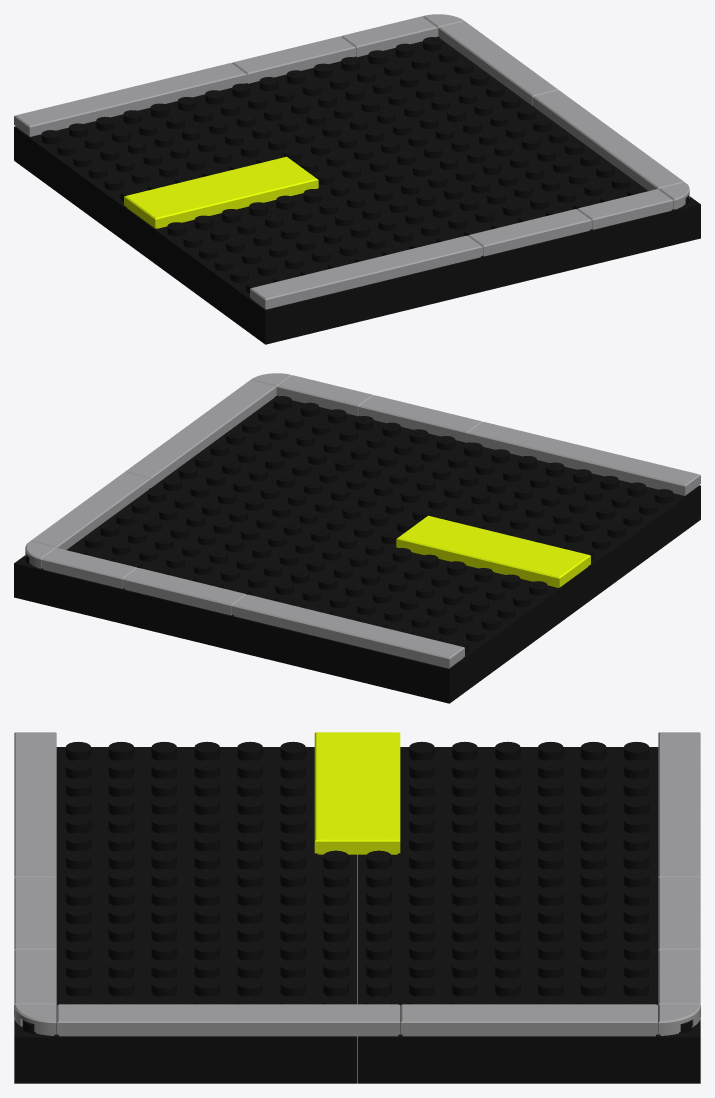
Rendered from End-Road.fbx.
3 renders of one model, top to bottom at view 1: azimuth 30°, elevation 25°; view 2: azimuth 150°, elevation 25°; view 3: azimuth 270°, elevation 25°, orthographic. The views are drawn at different scales.
Parts seen in each view (by area): view 1: part.002, part.003, part.004, part.001, part, part.011, part.012, part.007, part.010, part.008, part.009; view 2: part.003, part.002, part.004, part, part.001, part.011, part.012, part.010, part.007, part.009, part.008; view 3: part.003, part.002, part.011, part.004, part.012, part, part.001, part.007, part.010, part.008, part.009, part.005 (+1 smaller).
Boxes of the visible parts, bbox=[...] form: part.002: bbox=[139, 117, 700, 344]; part.003: bbox=[14, 36, 549, 252]; part.004: bbox=[124, 156, 318, 228]; part.001: bbox=[250, 235, 482, 309]; part: bbox=[14, 63, 247, 136]; part.011: bbox=[532, 90, 684, 190]; part.012: bbox=[438, 21, 558, 105]; part.007: bbox=[468, 209, 591, 256]; part.010: bbox=[232, 36, 355, 83]; part.008: bbox=[577, 189, 673, 229]; part.009: bbox=[341, 16, 437, 57]; part.003: bbox=[14, 476, 575, 703]; part.002: bbox=[165, 395, 700, 611]; part.004: bbox=[396, 515, 590, 587]; part: bbox=[232, 594, 464, 668]; part.001: bbox=[467, 422, 700, 495]; part.011: bbox=[125, 380, 276, 488]; part.012: bbox=[30, 472, 150, 549]; part.010: bbox=[123, 568, 246, 615]; part.007: bbox=[359, 395, 482, 442]; part.009: bbox=[41, 548, 137, 588]; part.008: bbox=[277, 375, 373, 416]; part.003: bbox=[357, 741, 700, 1083]; part.002: bbox=[14, 741, 357, 1083]; part.011: bbox=[57, 1004, 400, 1036]; part.004: bbox=[314, 732, 400, 854]; part.012: bbox=[400, 1004, 657, 1036]; part: bbox=[658, 732, 700, 877]; part.001: bbox=[14, 732, 56, 877]; part.007: bbox=[14, 877, 56, 950]; part.010: bbox=[658, 877, 700, 950]; part.008: bbox=[14, 950, 56, 1004]; part.009: bbox=[658, 950, 700, 1004]; part.005: bbox=[14, 1004, 56, 1035].
Bounding box in the file's own units: 12796 × 1276 × 12800.
